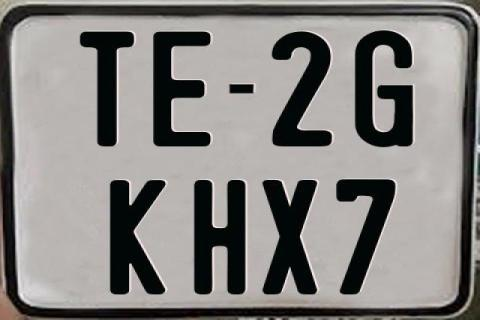0: (336, 178, 399, 298), (269, 31, 330, 147)
E: (153, 30, 211, 150)
G: (353, 30, 417, 146)
H: (191, 177, 245, 297)
K: (107, 179, 164, 297)
T: (78, 29, 138, 150)
X: (260, 179, 318, 299)
